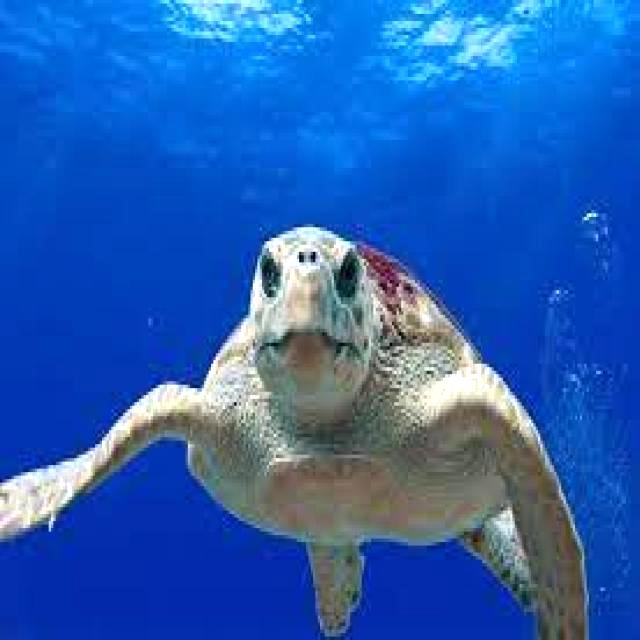Sea turtle: (0, 219, 594, 640)
